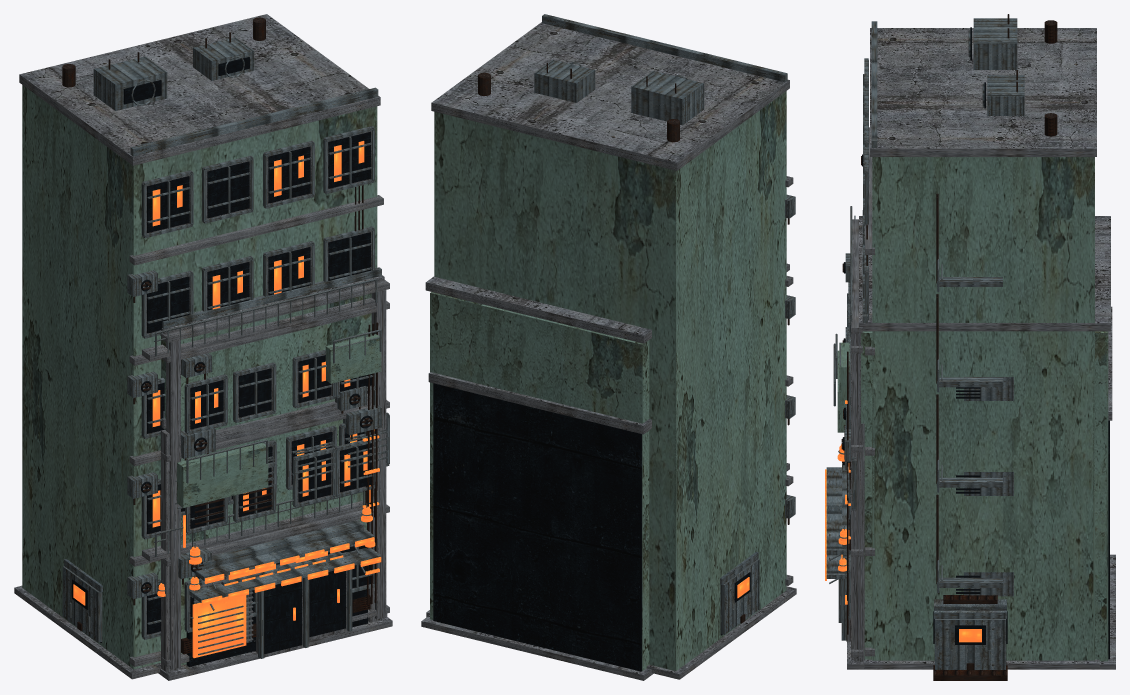
File: night-market-kit.glb
3 renders of one model, left to right at view 1: azimuth 30°, elevation 25°; view 2: azimuth 150°, elevation 25°; view 3: azimuth 270°, elevation 25°, orthographic.
Parts seen in each view (by area): view 1: Apartment, Implants, Armory, Train; view 2: Apartment, Armory, Implants, Train; view 3: Apartment, Implants, Train, Armory.
Boxes of the visible parts, box(x1,y1,x2,y2) form: Apartment: box(14, 14, 387, 679); Implants: box(158, 267, 392, 680); Armory: box(160, 386, 389, 674); Train: box(62, 559, 102, 642); Apartment: box(426, 14, 796, 679); Armory: box(424, 372, 652, 680); Implants: box(421, 276, 653, 680); Train: box(720, 552, 759, 635); Apartment: box(841, 14, 1099, 668); Implants: box(825, 210, 1115, 669); Train: box(933, 595, 1007, 680); Armory: box(825, 306, 1115, 662).
Bounding box in the file's own units: 10 × 19 × 9.
6 materials, 6 textured.
